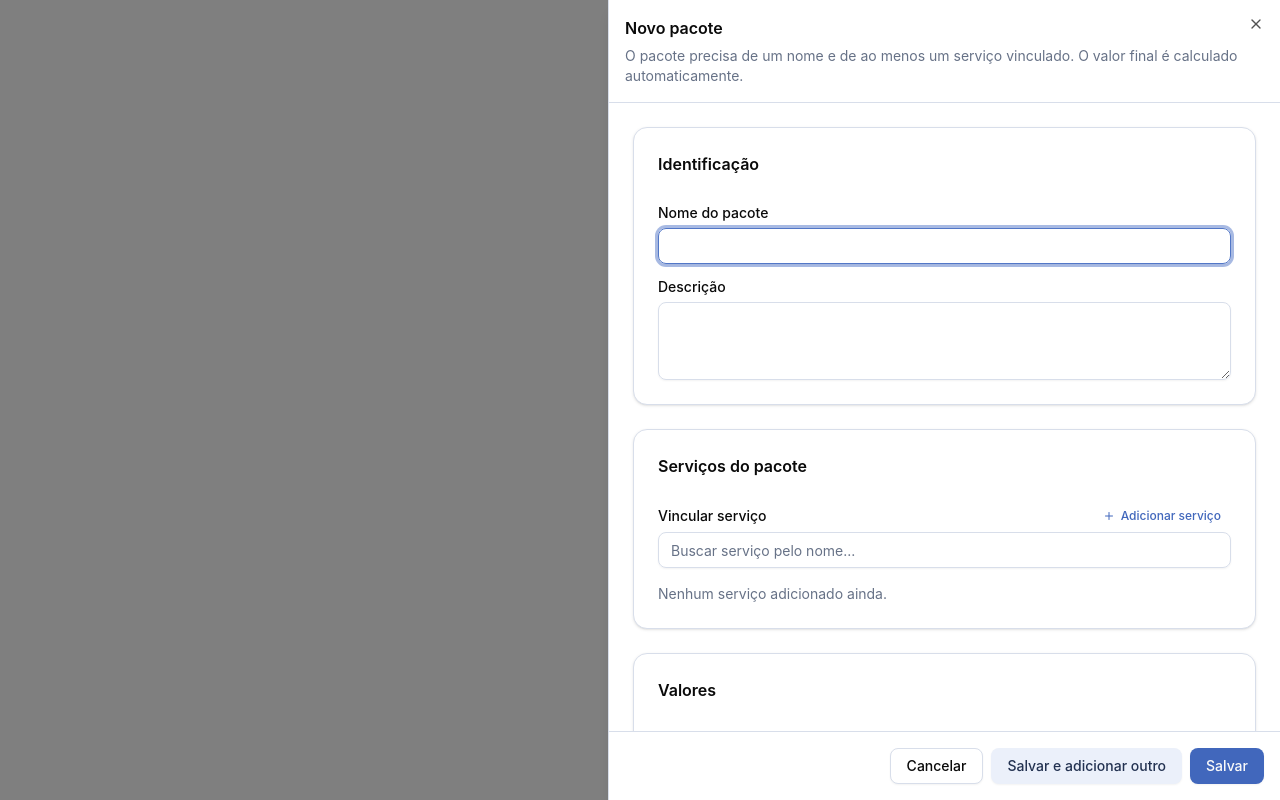
PackageFormSheet › can remove a service from the package before saving
In the field labelled "Nome do pacote": (944, 246) [658,228,1231,264], type "Pacote"
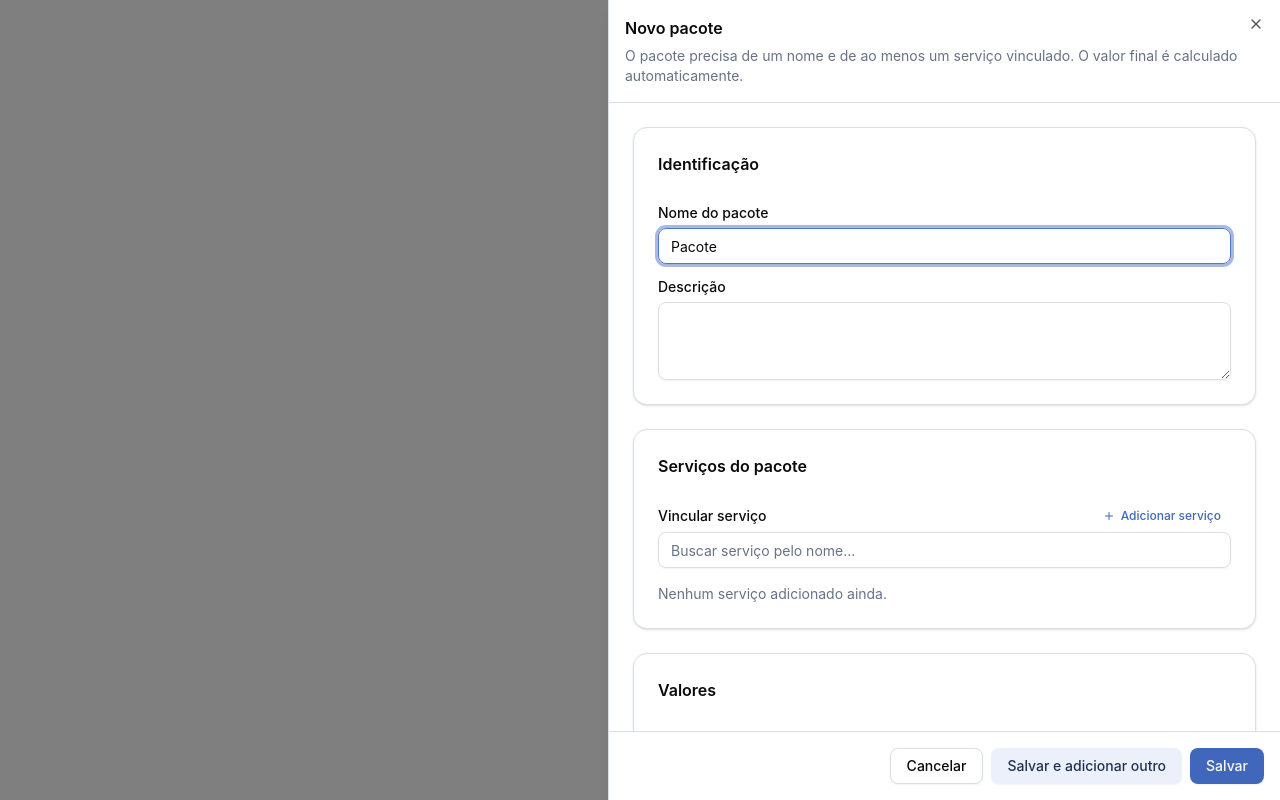
Click the field with placeholder "Buscar serviço pelo nome...": (944, 550) [658,532,1231,568]
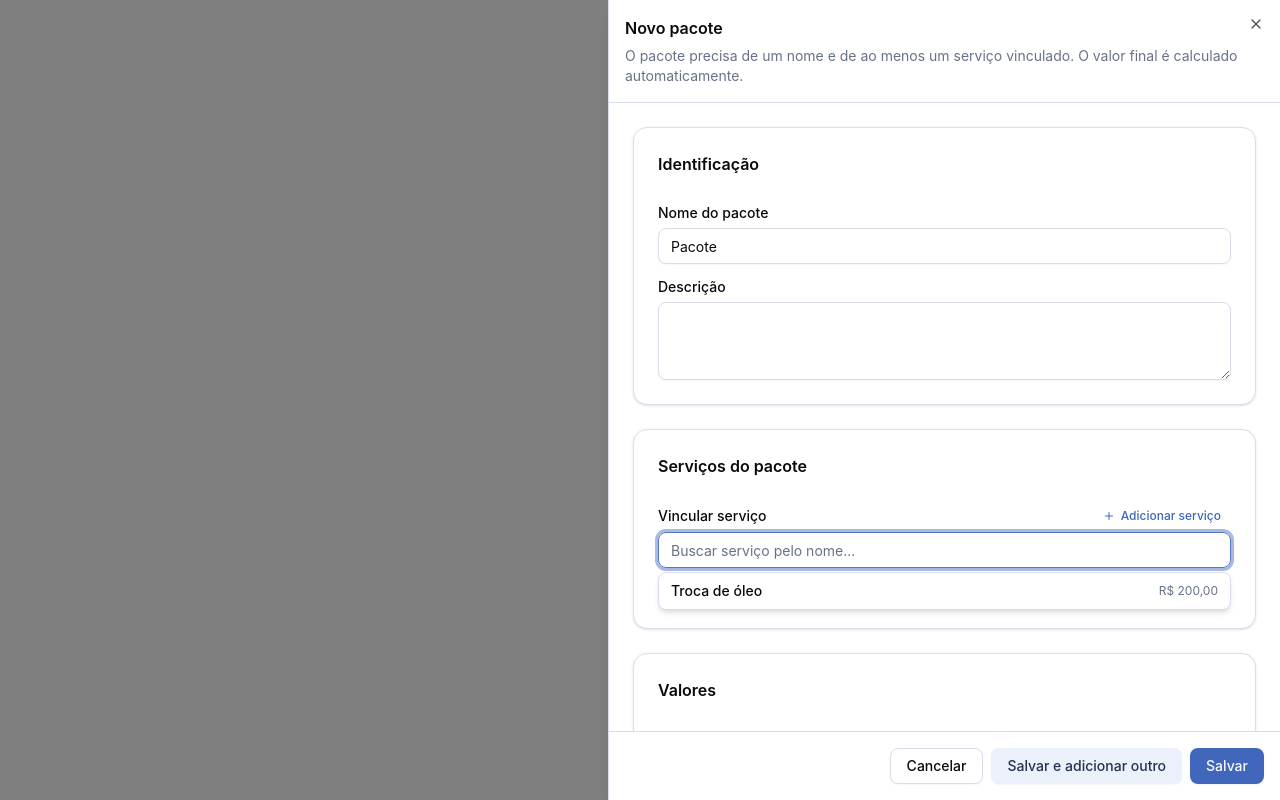
Click the button "Troca de óleo R$ 200,00": (717, 590) [659,573,1230,609]
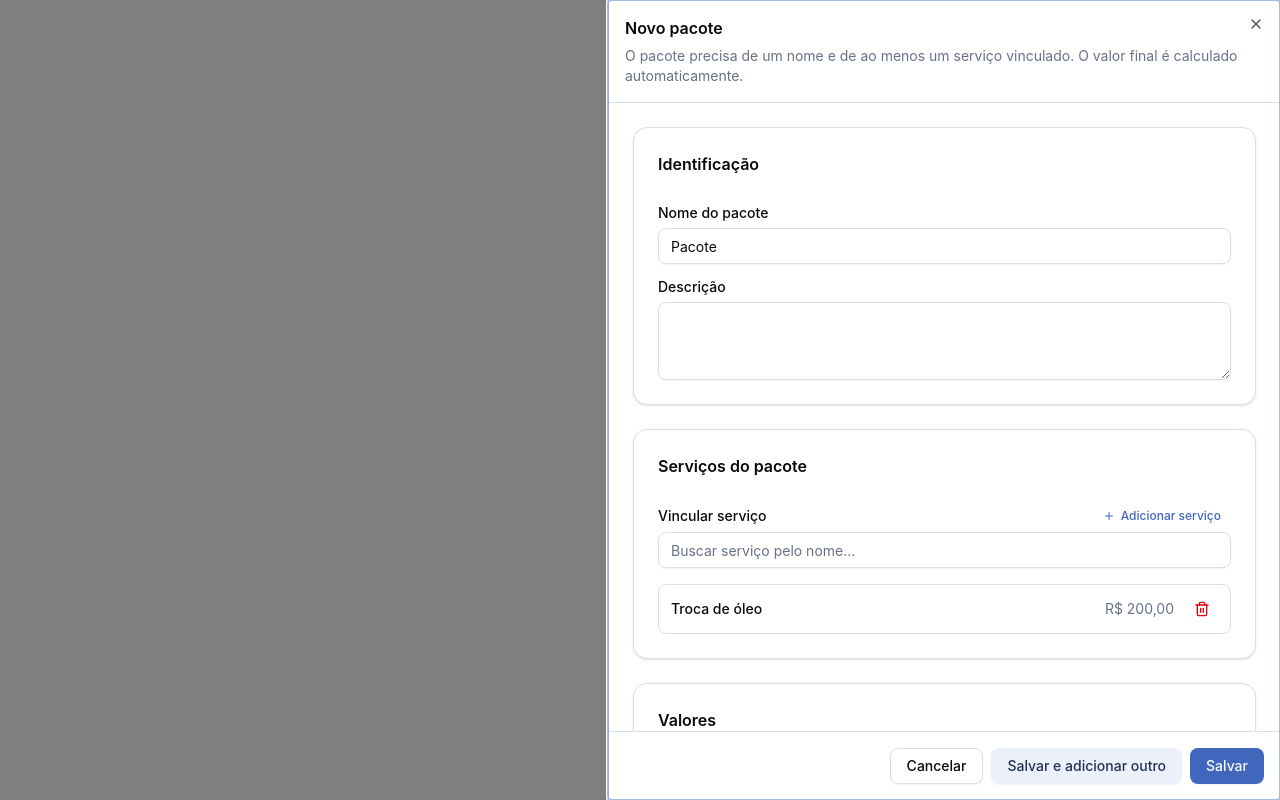
Click the button named "Remover serviço": (1202, 609) [1186,593,1218,625]
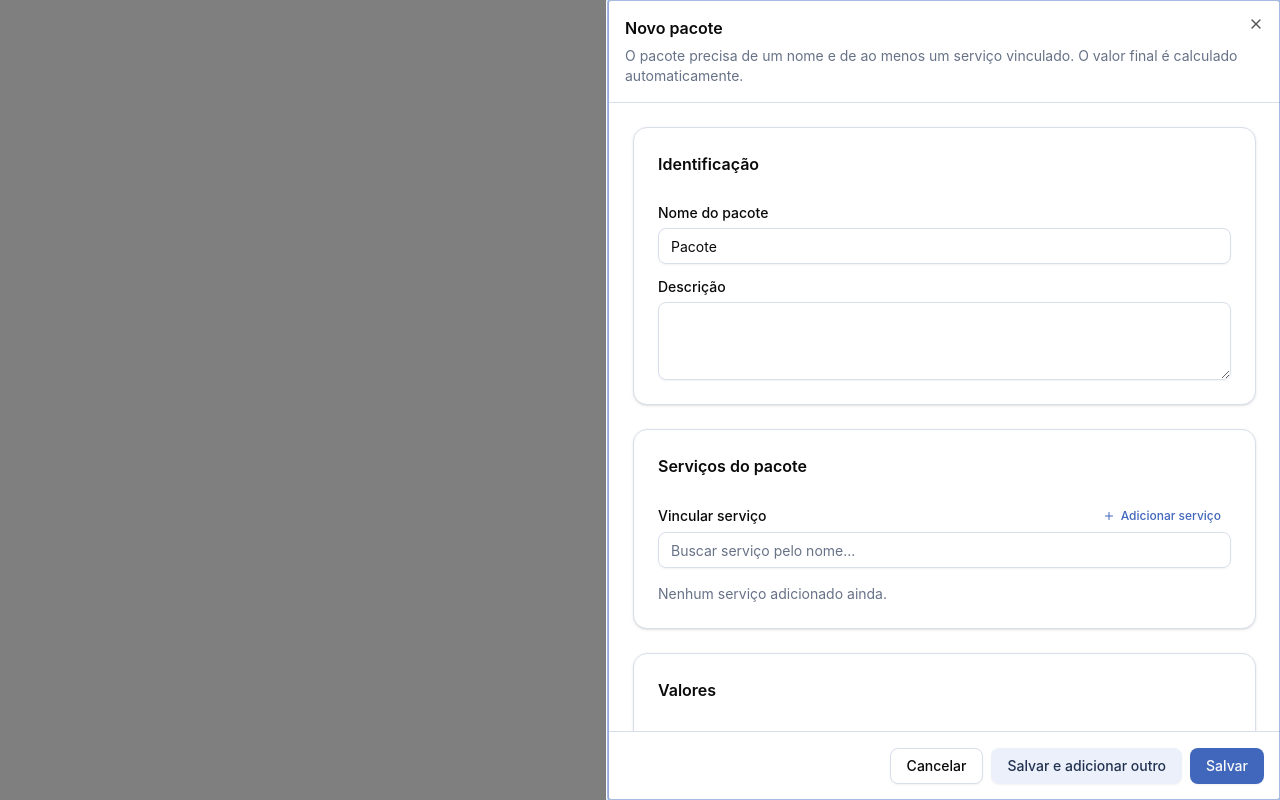
Now the text "Nenhum serviço adicionado ainda." is shown, box [658,585,887,602]
